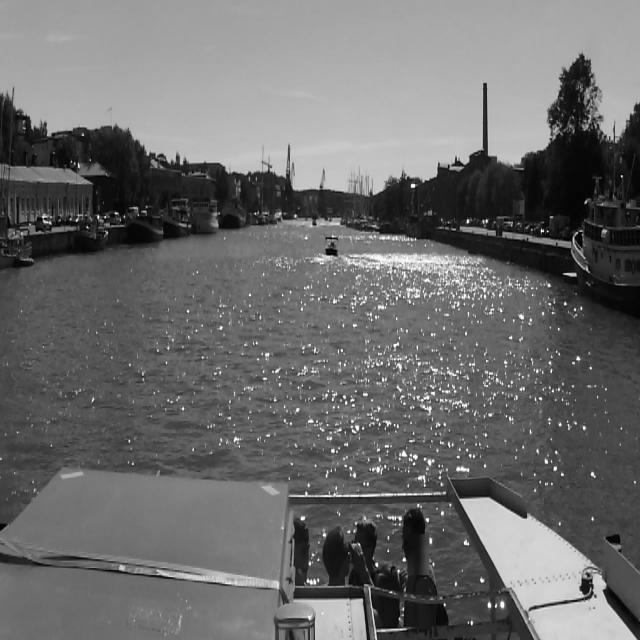ship: (571, 172, 638, 310), (0, 80, 38, 269), (252, 154, 270, 228), (218, 194, 250, 228), (127, 216, 165, 244), (193, 198, 220, 235), (165, 201, 191, 239), (78, 223, 110, 249), (326, 235, 339, 255), (311, 218, 317, 228)
